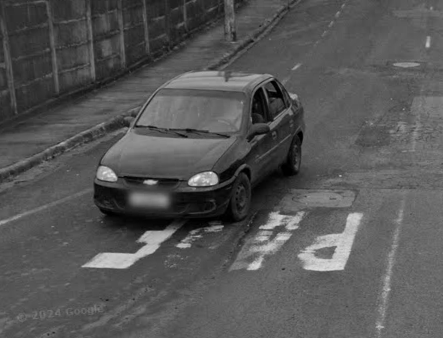car: (87, 62, 310, 228)
